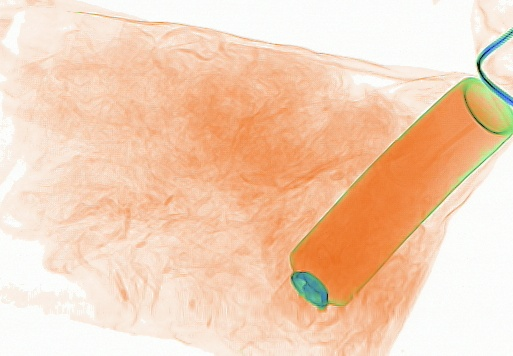pressure: (266, 77, 510, 332)
